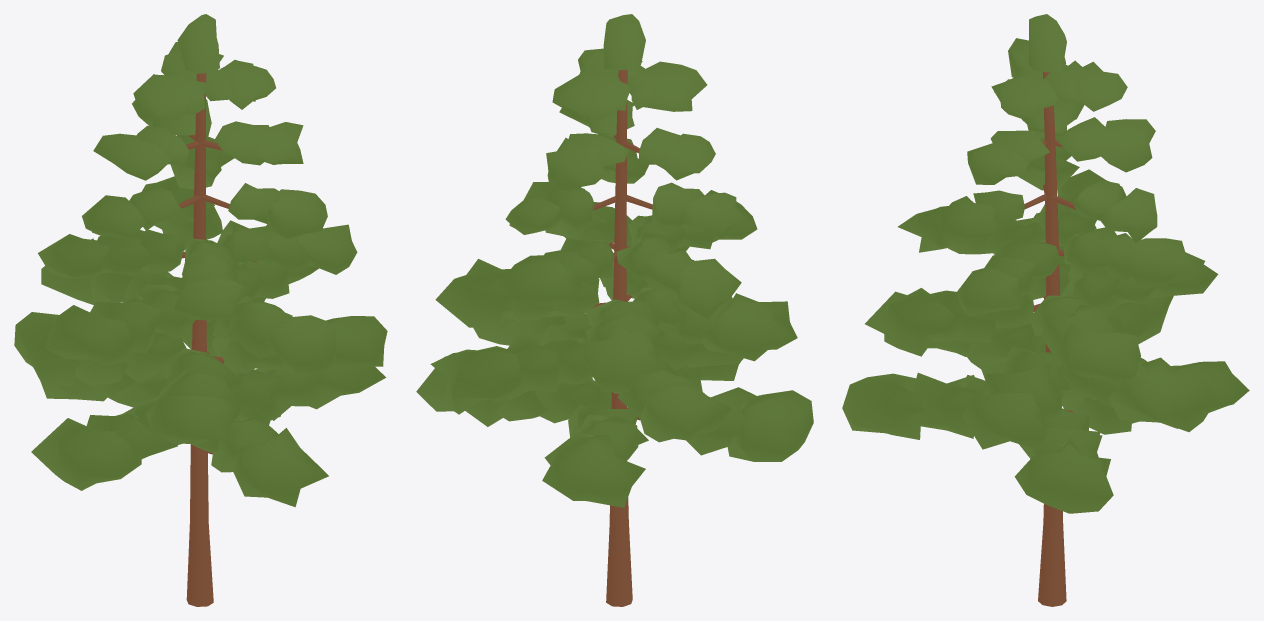
The model's file is Blender_ShortleafPine_1.glb.
The picture shows the model from 3 angles, left to right: view 1: azimuth 30°, elevation 25°; view 2: azimuth 150°, elevation 25°; view 3: azimuth 270°, elevation 25°; orthographic projection.
Visible parts, largest first — view 1: Blender_ShortleafPine_1; view 2: Blender_ShortleafPine_1; view 3: Blender_ShortleafPine_1.
Boxes of the visible parts, left/top/right/bottom form: Blender_ShortleafPine_1: left=14, top=14, right=387, bottom=606; Blender_ShortleafPine_1: left=416, top=14, right=813, bottom=606; Blender_ShortleafPine_1: left=842, top=14, right=1249, bottom=606.
Size of the model in its own units: 15.07 by 24.68 by 15.54.
